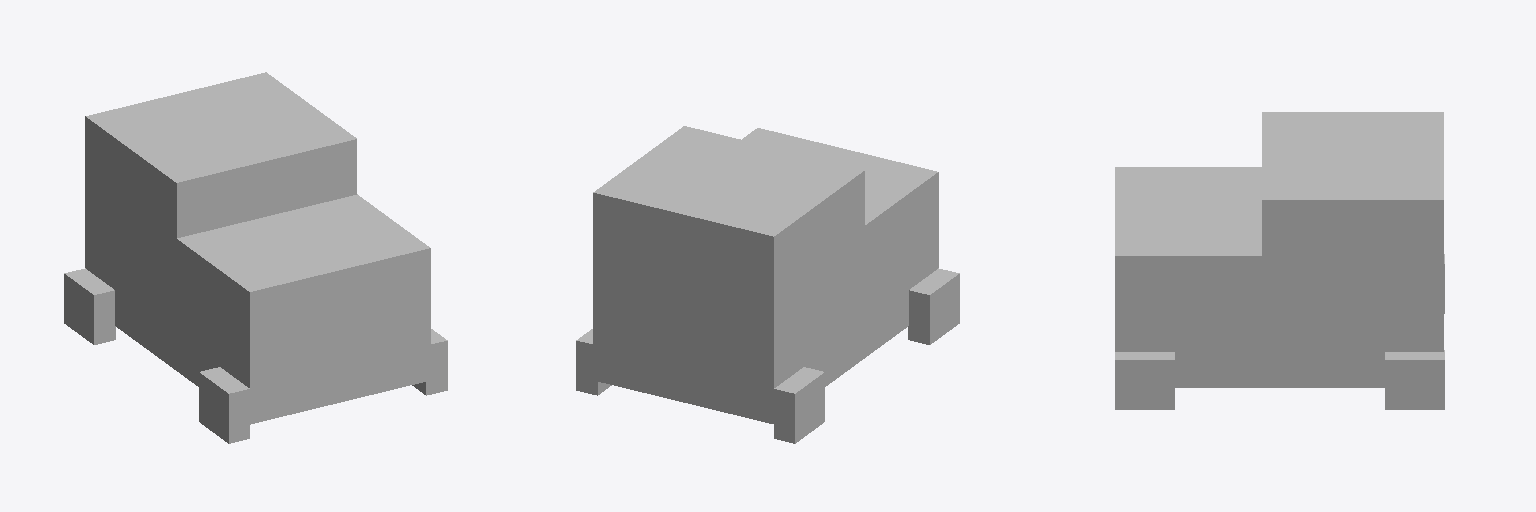
File: Voiture.obj
3 renders of one model, left to right at view 1: azimuth 30°, elevation 25°; view 2: azimuth 150°, elevation 25°; view 3: azimuth 270°, elevation 25°, orthographic.
Visible parts, largest first — view 1: Voiture (4); view 2: Voiture (4); view 3: Voiture (4).
Part boxes in pixels (x1,y1,x2,y2): Voiture (4): (64,72,447,443); Voiture (4): (576,126,959,443); Voiture (4): (1115,112,1444,409).
Size of the model in its own units: 2.59 by 2.28 by 3.37.